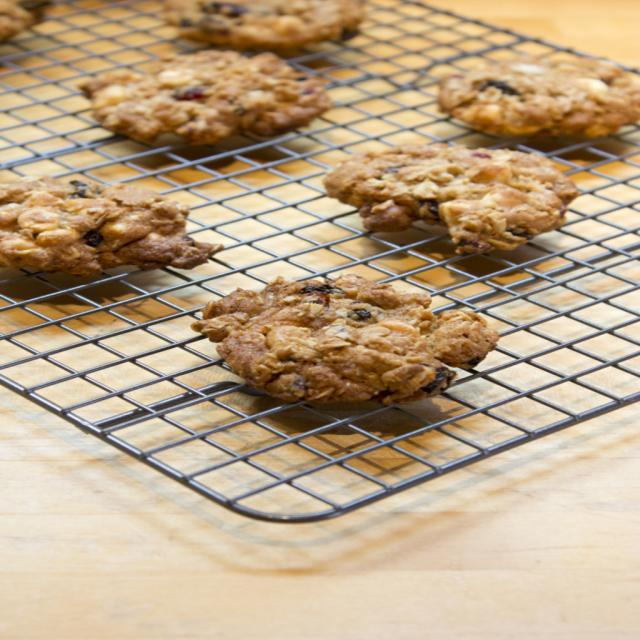Cookie: (197, 275, 485, 411), (326, 142, 581, 257), (75, 47, 331, 143), (0, 174, 226, 279), (434, 56, 639, 138), (161, 0, 373, 49), (0, 0, 48, 44)
